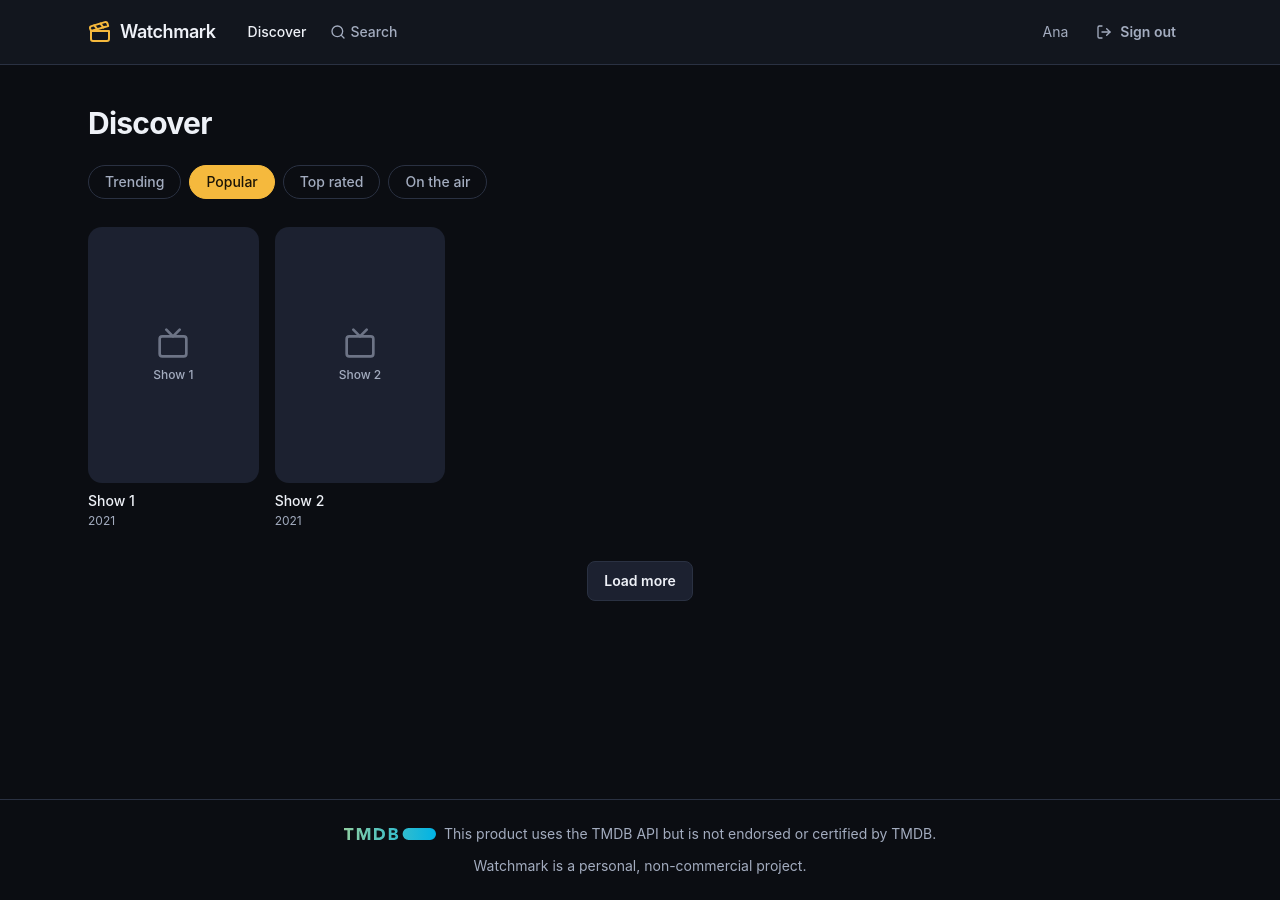
Test: DiscoverPage › loads more pages and stops at the last one
The width and height of the screenshot is (1280, 900).
Click the button "Load more". click: (640, 581)
box: [587,561,693,601]
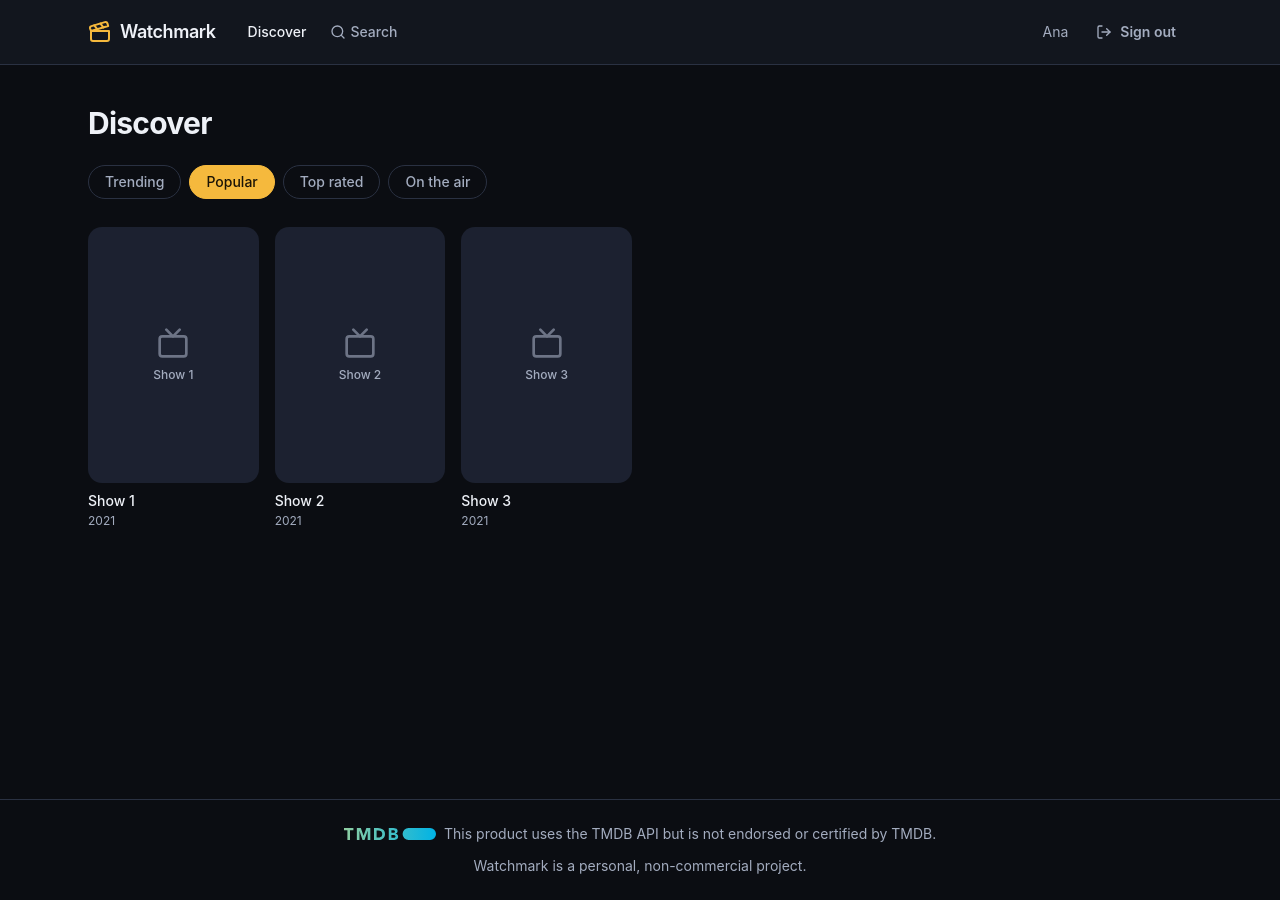
Expected: the number of links "Show 2 Show 2 2021" is 1, [275,227,445,529]
Result: the link "Show 3 Show 3 2021" is shown at [461,227,632,529]
Result: the button "Load more" is gone
